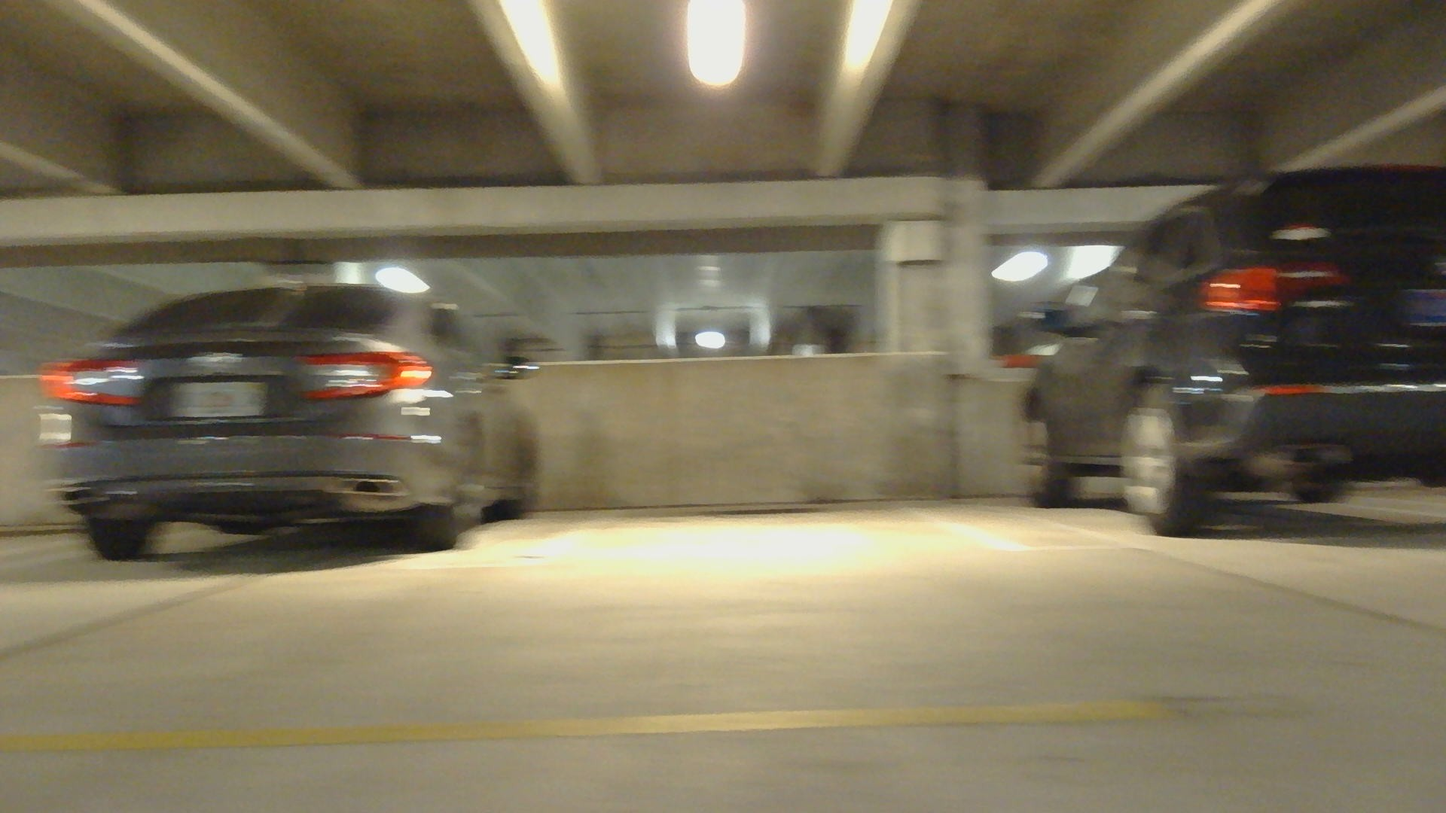empty_spot: (458, 411, 1047, 566)
occupied_spot: (1010, 160, 1446, 544), (30, 275, 544, 578)
